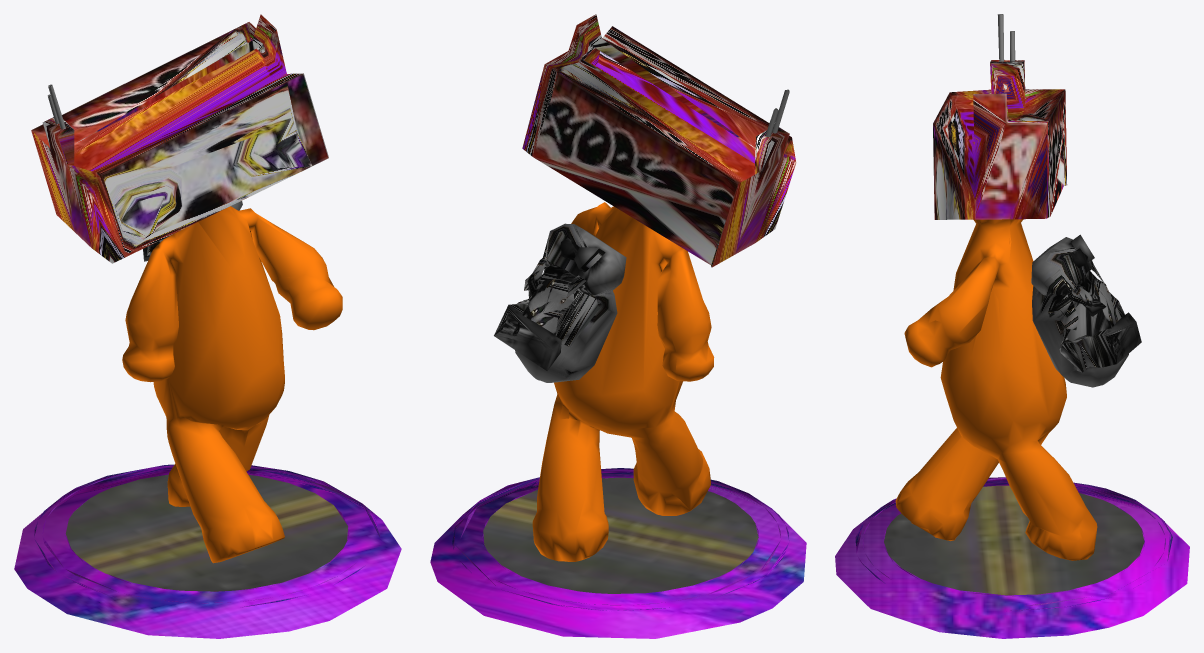
3 views of the same model, side by side, from view 1: azimuth 30°, elevation 25°; view 2: azimuth 150°, elevation 25°; view 3: azimuth 270°, elevation 25° (orthographic). The views are drawn at different scales.
Bounding box in the file's own units: 1.44 × 2.18 × 1.43.
6 materials, 4 textured.
